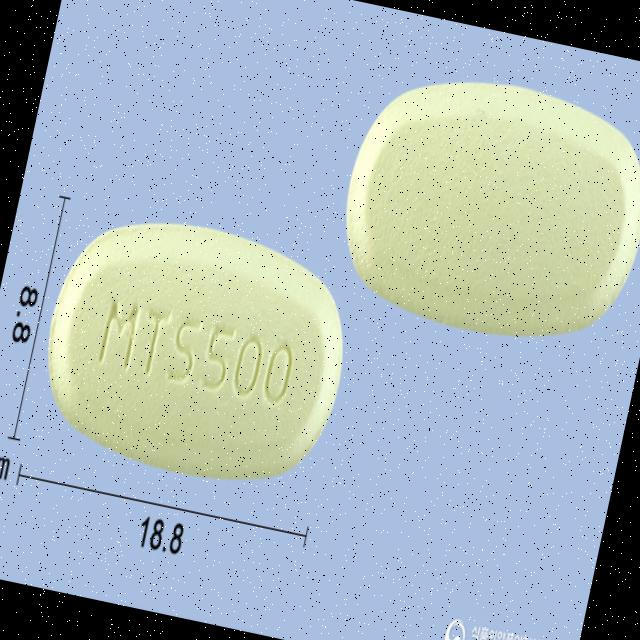Clarimacin: (18, 197, 370, 508), (318, 47, 640, 366)
